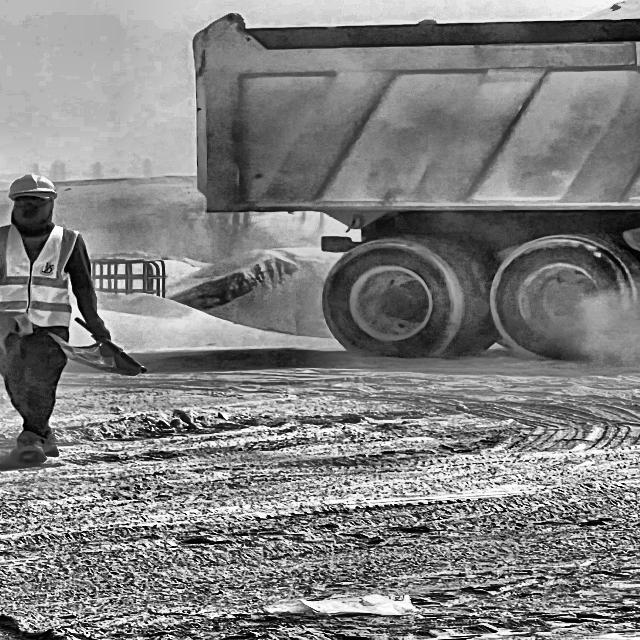dump_truck: (188, 0, 640, 371)
